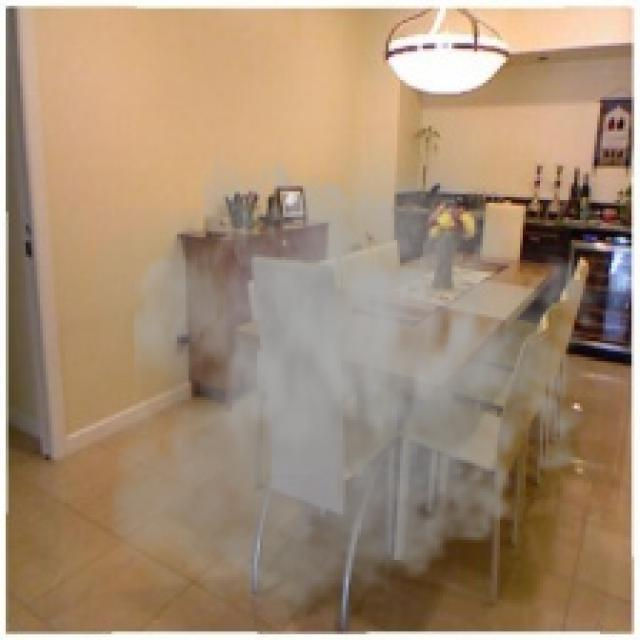Smoke: (97, 117, 614, 637)
